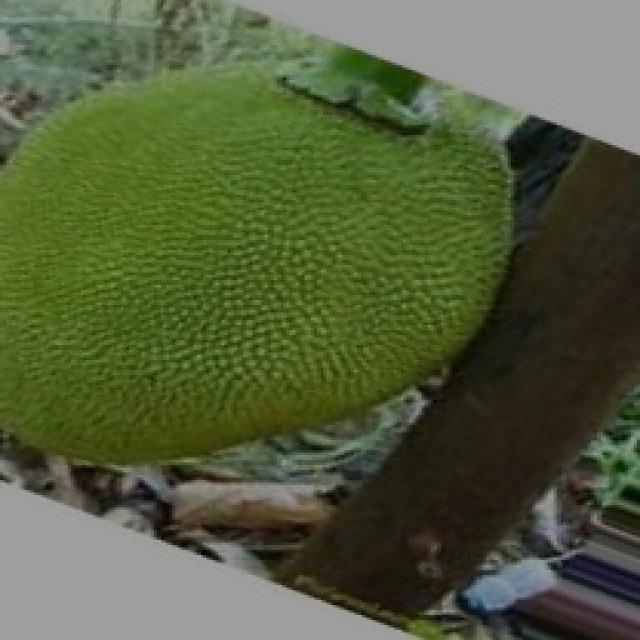Fruit: (222, 15, 578, 457)
